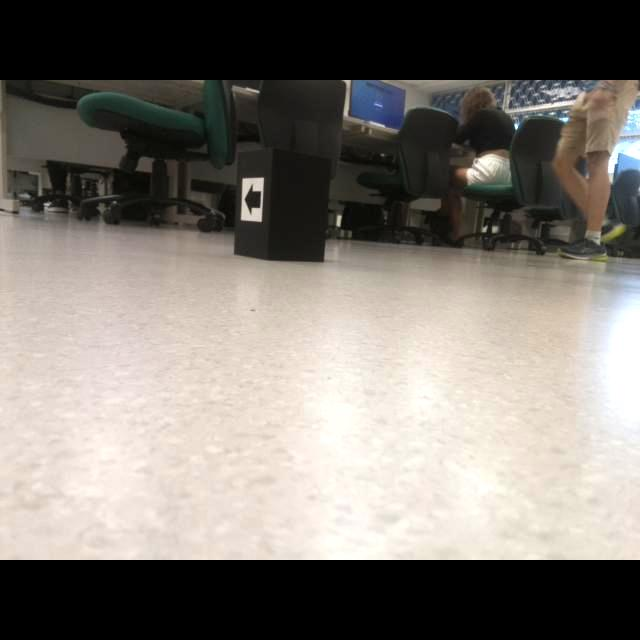LEFT: (244, 182, 261, 216)
